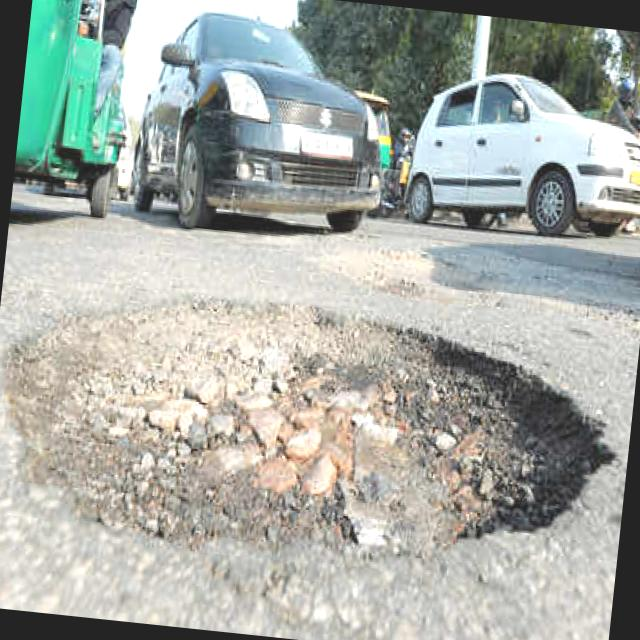bad-road: (0, 270, 630, 591), (289, 225, 640, 324)
